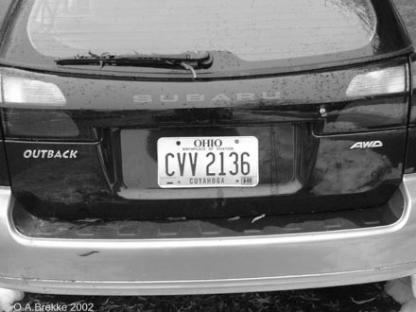license plate: (146, 127, 268, 201)
